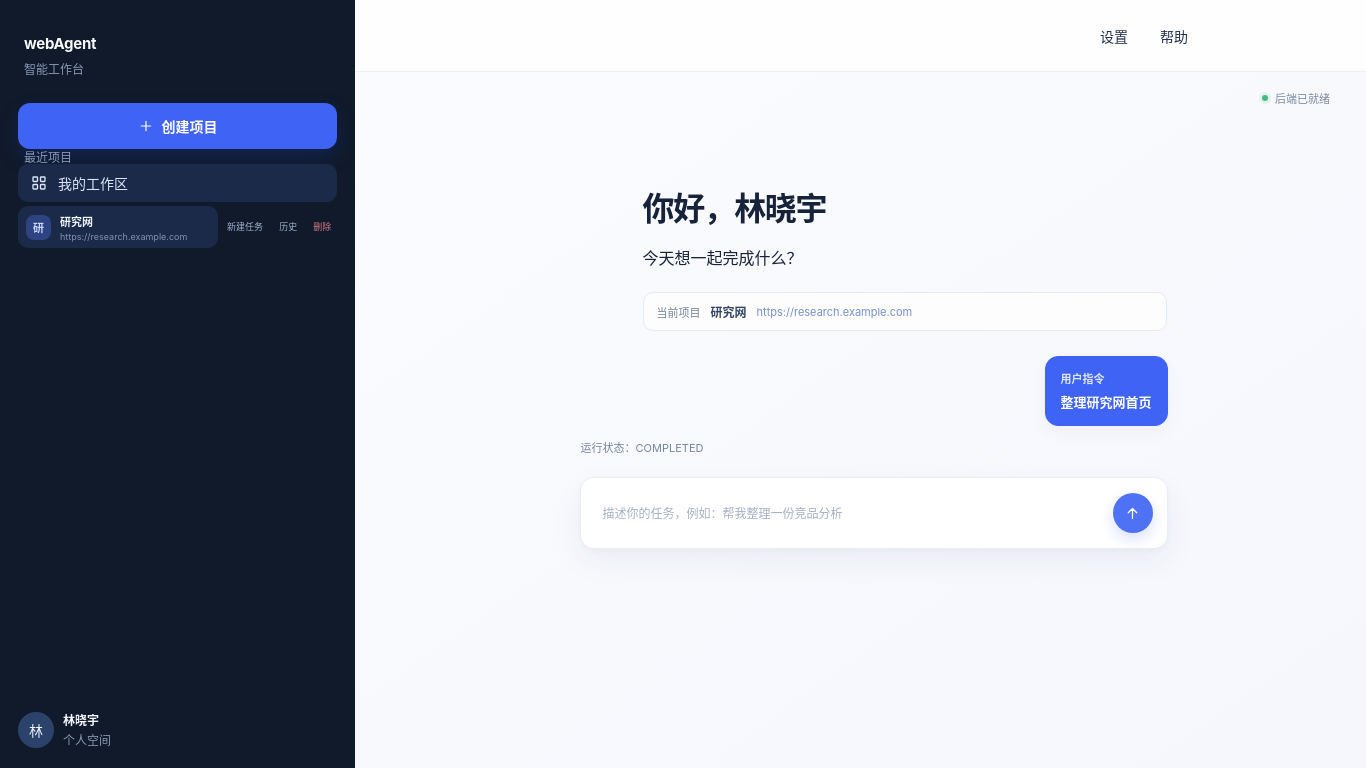
Test: desktop run workspace › opens project history from the project row action
The width and height of the screenshot is (1366, 768).
Click the button with aria-label "查看项目 研究网 的历史任务": coordinates (288, 227) [273, 212, 303, 242]
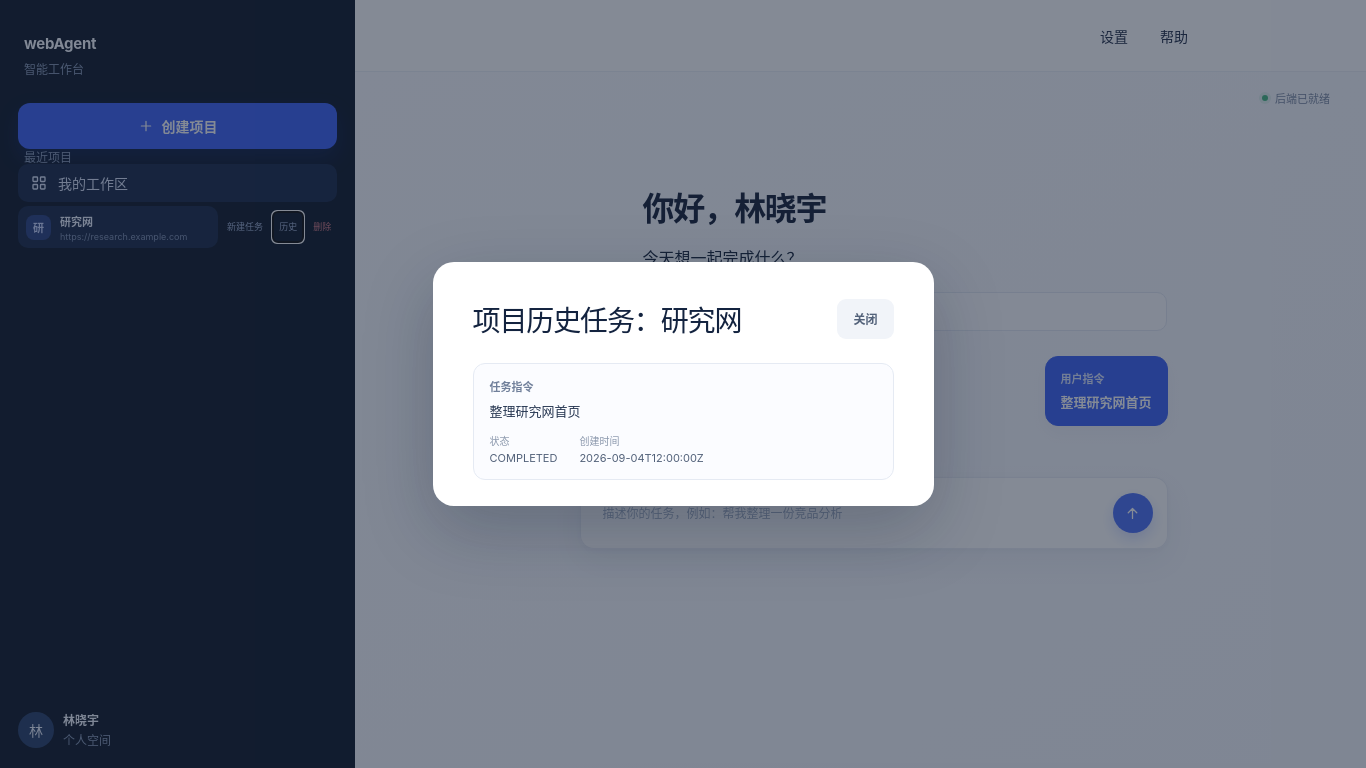
Expected: the dialog "项目历史任务：研究网" is shown, [432, 262, 934, 506]
Expected: the text "整理研究网首页" is shown, [490, 403, 580, 419]
Click the button "关闭": coordinates (866, 319) [838, 299, 894, 339]
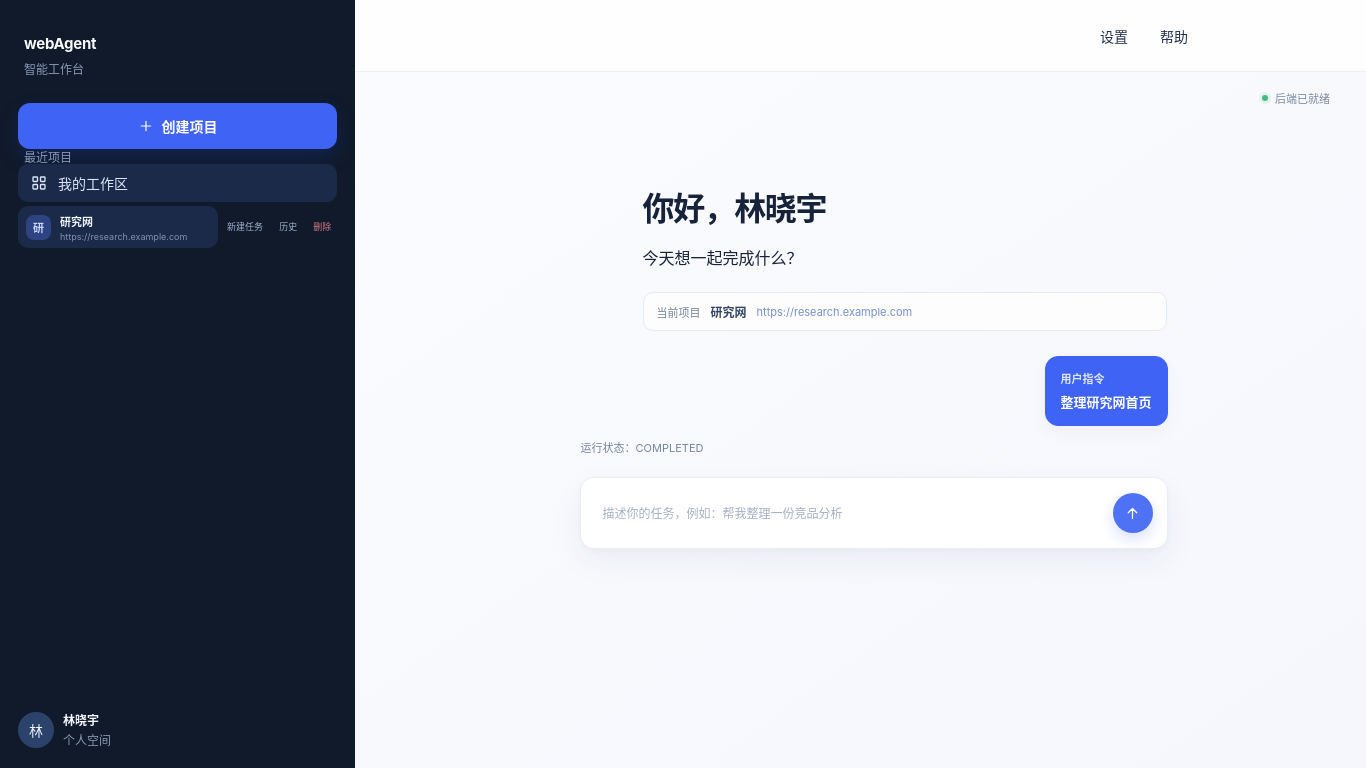
Expected: the heading "项目历史任务：研究网" is gone
